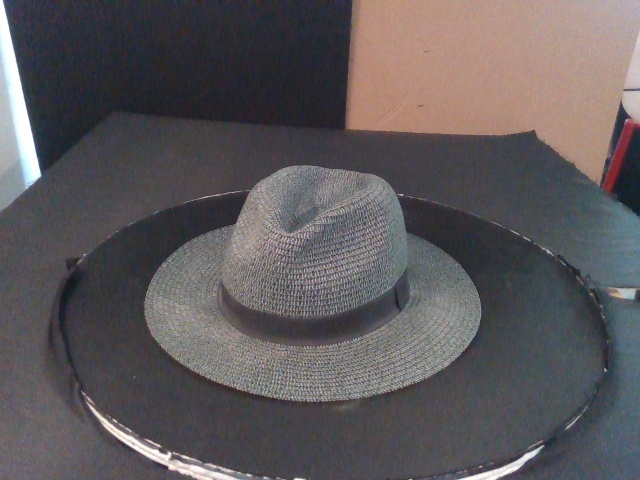hat: (143, 164, 484, 404)
